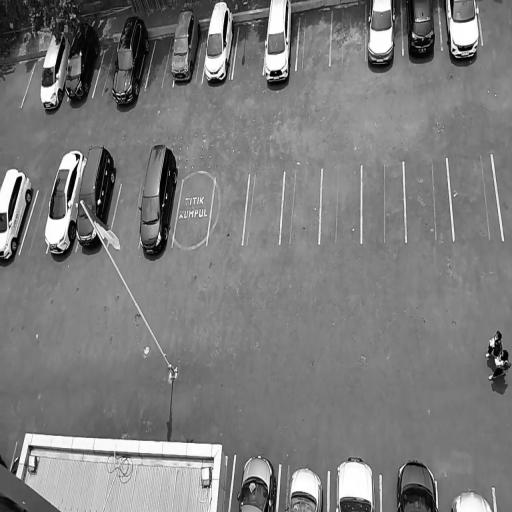Car: (138, 141, 182, 264), (73, 143, 119, 260), (42, 143, 87, 255), (109, 13, 154, 110), (0, 162, 37, 266), (64, 17, 103, 108), (38, 28, 73, 118), (202, 2, 238, 89), (262, 0, 295, 89), (170, 6, 203, 86), (237, 447, 277, 512), (334, 454, 378, 512), (442, 0, 482, 62), (395, 457, 439, 512), (366, 0, 397, 67), (287, 461, 325, 512), (448, 485, 493, 512)
Space Available: (448, 155, 503, 241), (405, 158, 453, 241), (362, 162, 404, 245), (319, 166, 362, 245), (242, 171, 285, 246), (206, 174, 250, 246), (280, 170, 322, 245), (172, 177, 215, 247), (108, 179, 145, 246), (329, 1, 366, 67), (296, 5, 333, 68), (19, 192, 52, 254), (232, 18, 267, 75), (493, 153, 512, 241), (146, 33, 176, 87), (478, 0, 512, 46), (93, 40, 119, 96), (21, 55, 46, 108)
